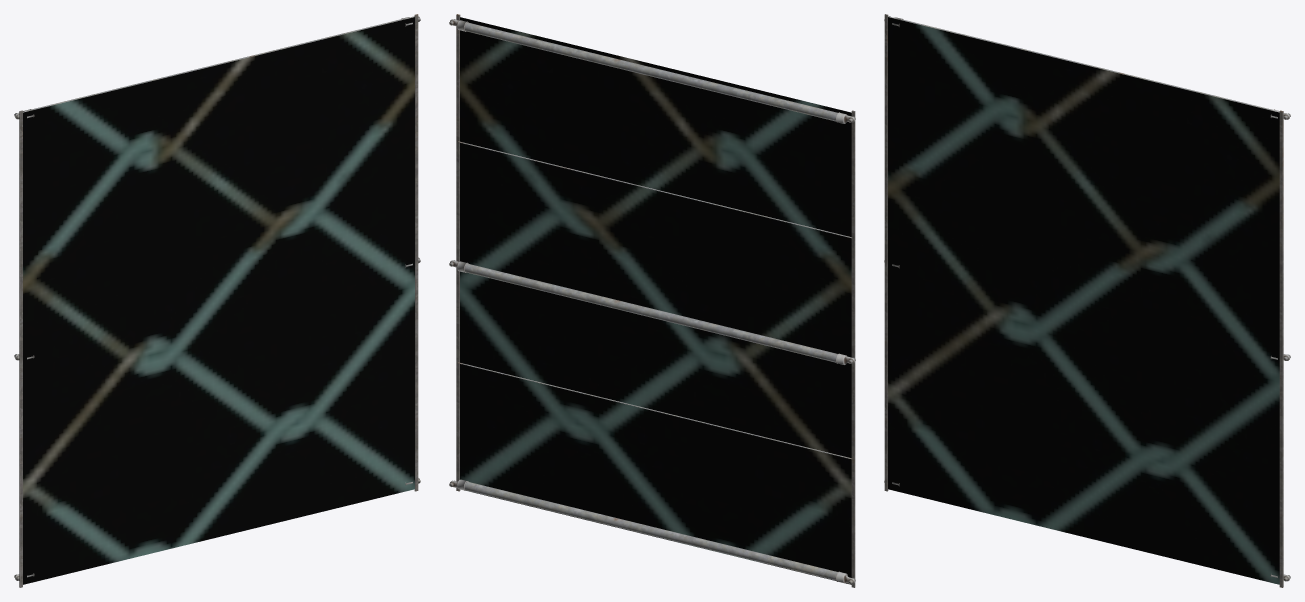
Rendered from SM_Dyn_CitKapisi.fbx.
3 renders of one model, left to right at view 1: azimuth 30°, elevation 25°; view 2: azimuth 150°, elevation 25°; view 3: azimuth 330°, elevation 25°, orthographic.
Parts seen in each view (by area): view 1: CitKapisi.001; view 2: CitKapisi.001; view 3: CitKapisi.001.
Boxes of the visible parts, x1,y1,x2,y2 form: CitKapisi.001: (14,14,420,587); CitKapisi.001: (449,14,855,587); CitKapisi.001: (884,14,1290,587).
Bounding box in the file's own units: 2.1 × 0.0486 × 2.37.
Materials: 2 (2 with a texture image).
